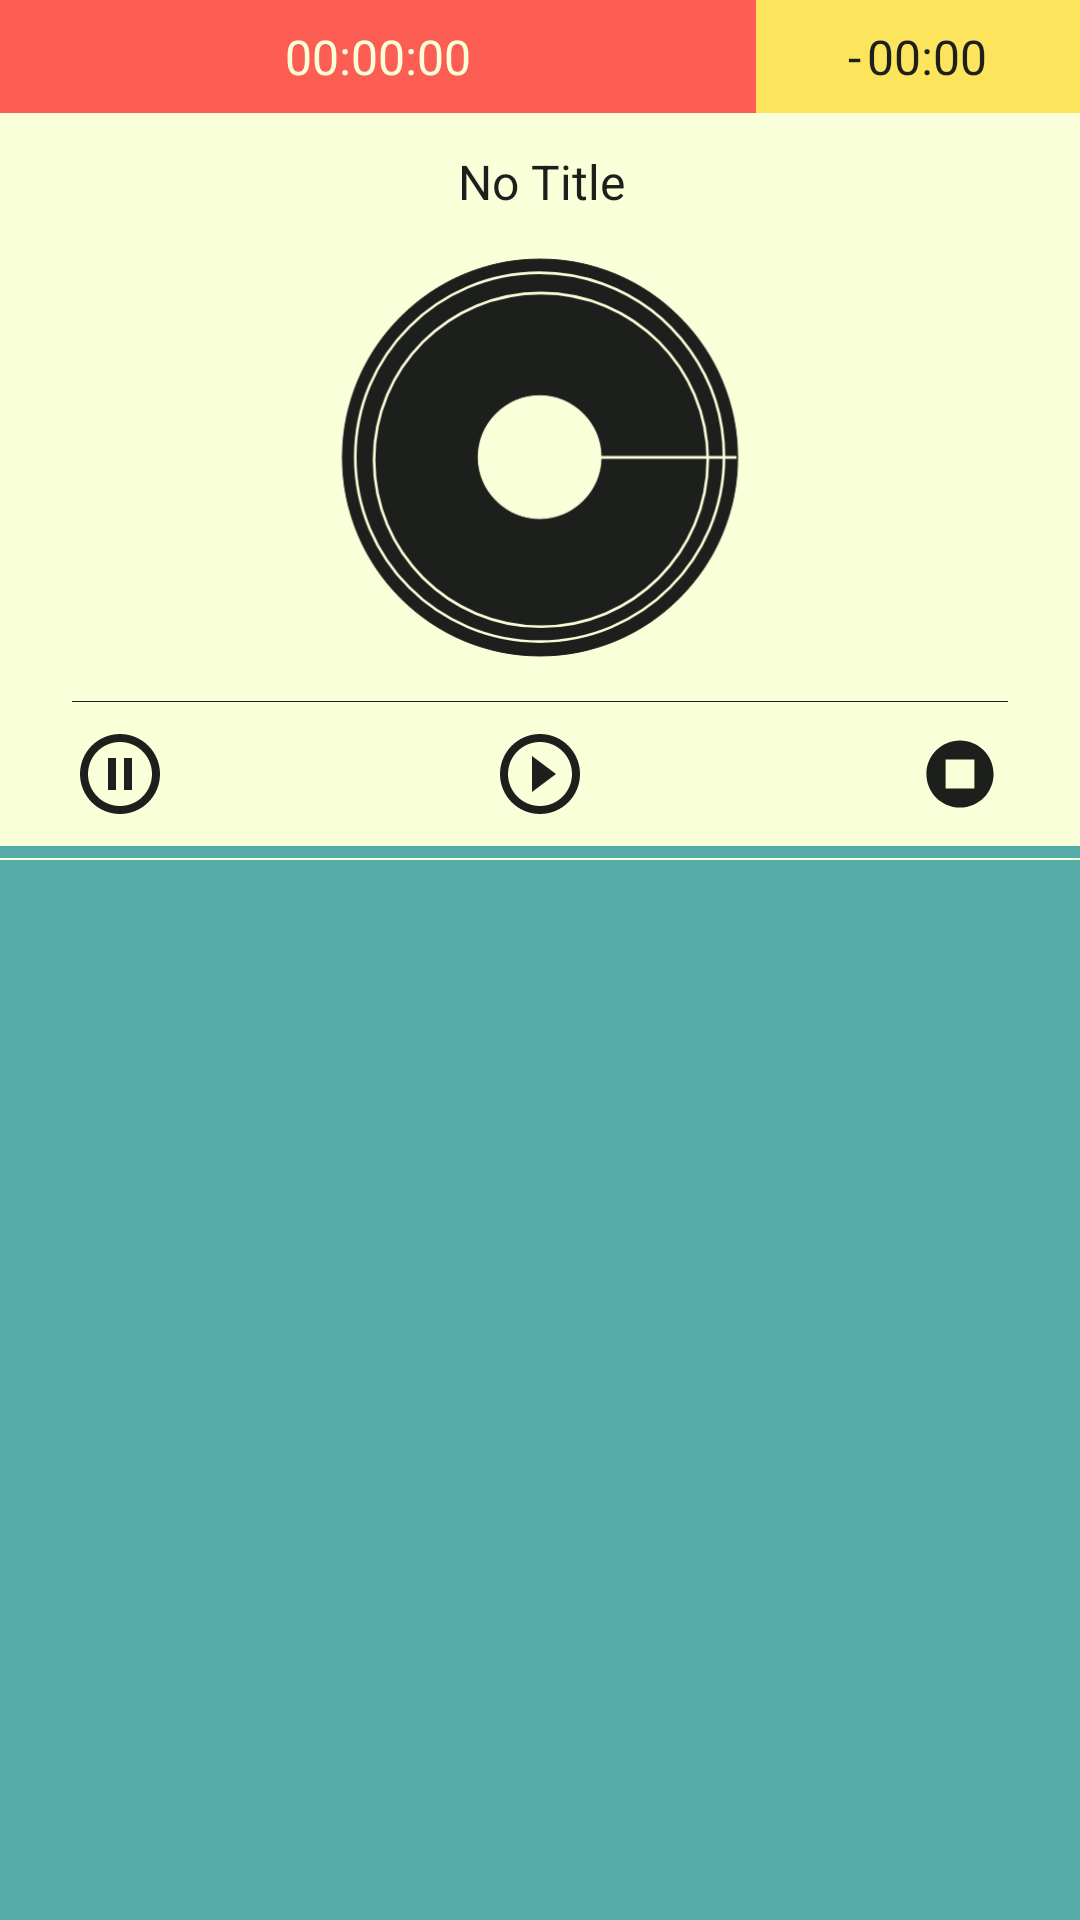

Named icons in this screenshot (1080x1920) and their centers, point (x, y):
time play: point (540, 774)
